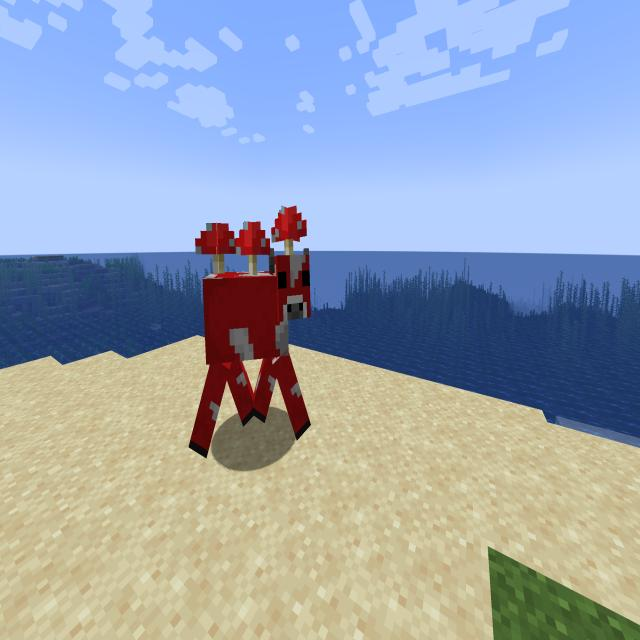Mooshroom: (186, 193, 316, 463)
